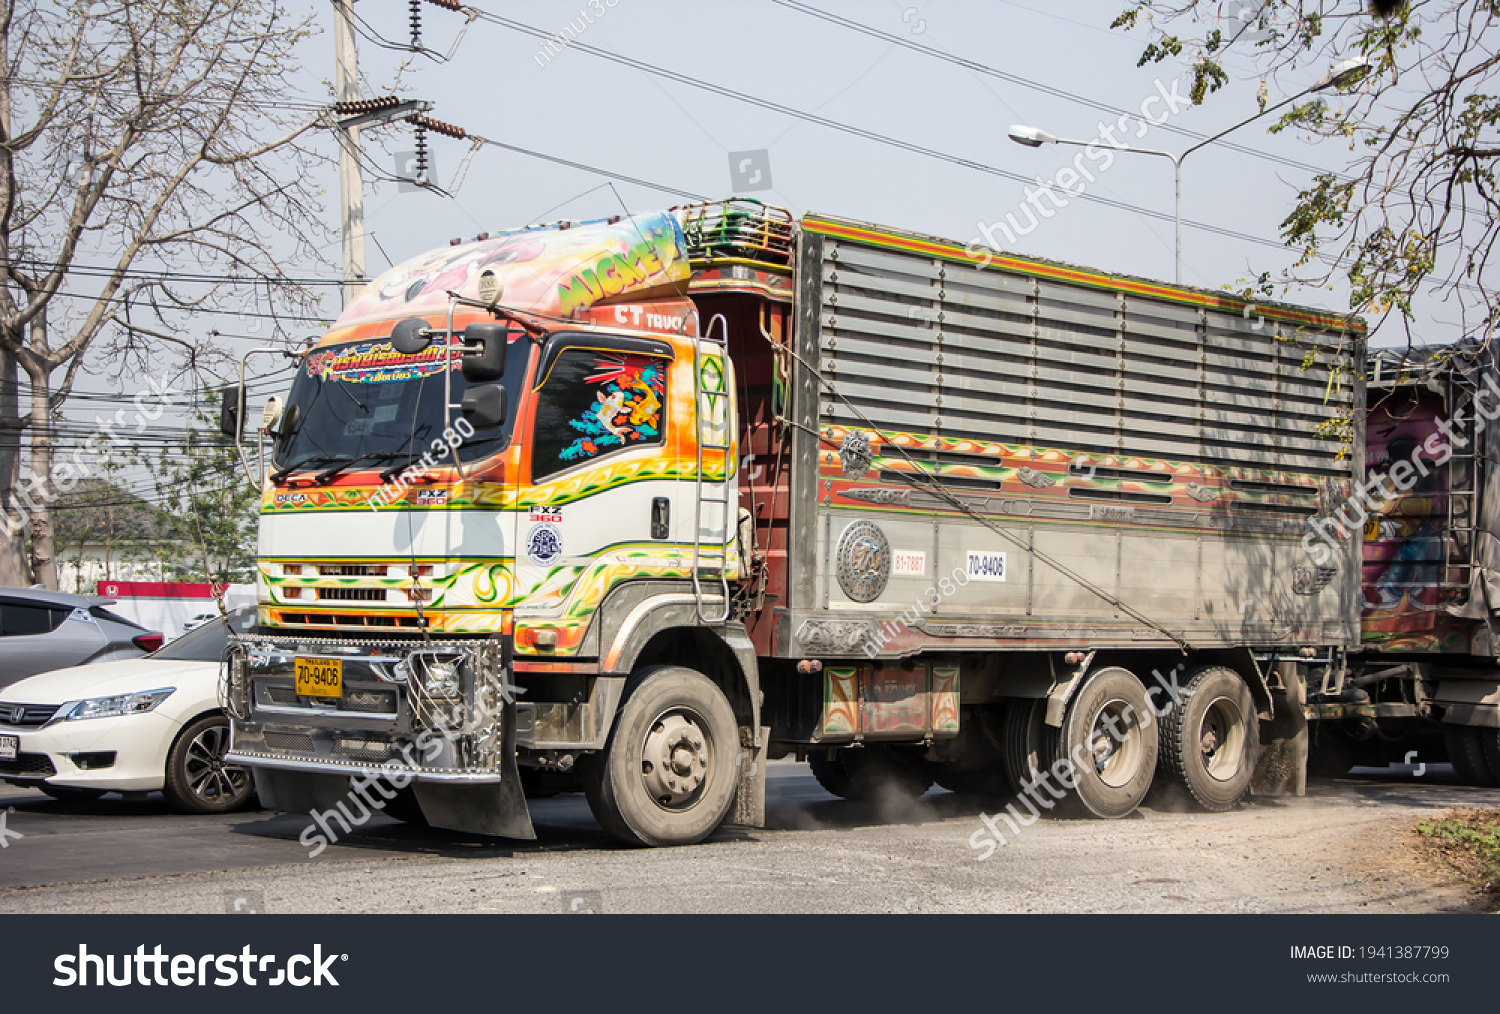wheel: (595, 652, 758, 852), (991, 673, 1170, 826), (1180, 660, 1283, 823)
